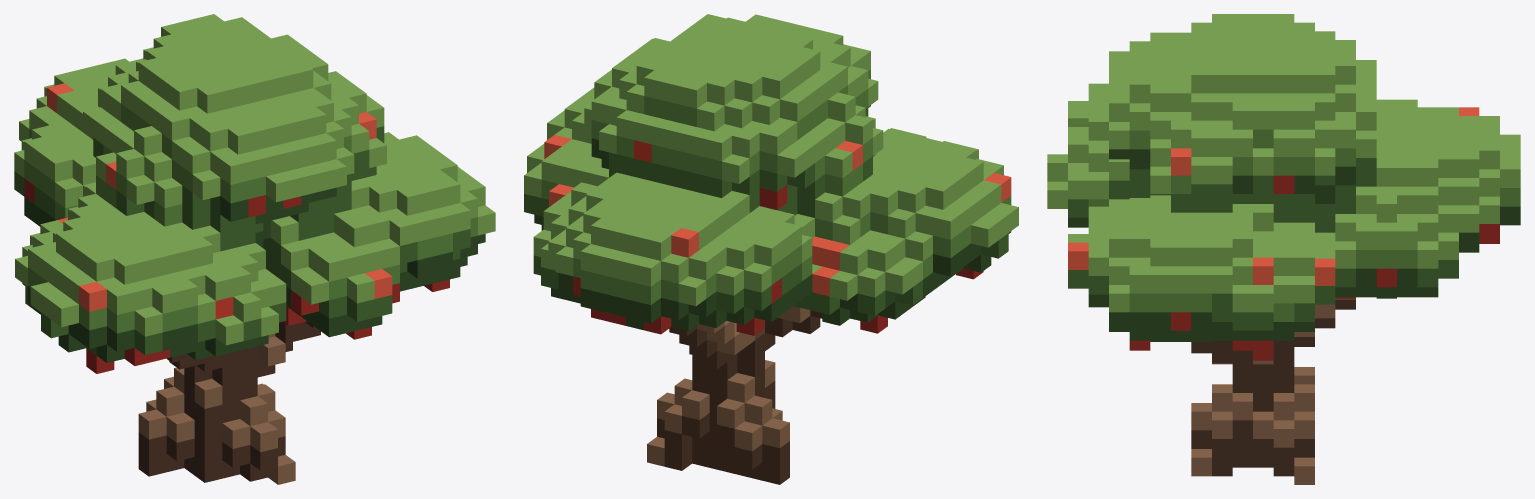
Rendered from SM_AppleTree.fbx.
The picture shows the model from 3 angles, left to right: view 1: azimuth 30°, elevation 25°; view 2: azimuth 150°, elevation 25°; view 3: azimuth 270°, elevation 25°; orthographic projection.
Parts seen in each view (by area): view 1: SM_AppleTree; view 2: SM_AppleTree; view 3: SM_AppleTree.
Part boxes in pixels (x1,y1,x2,y2): SM_AppleTree: (14,14,495,484); SM_AppleTree: (524,14,1018,484); SM_AppleTree: (1047,14,1520,484).
Bounding box in the file's own units: 2.4 × 2.2 × 2.3.
Materials: 1 (1 with a texture image).
